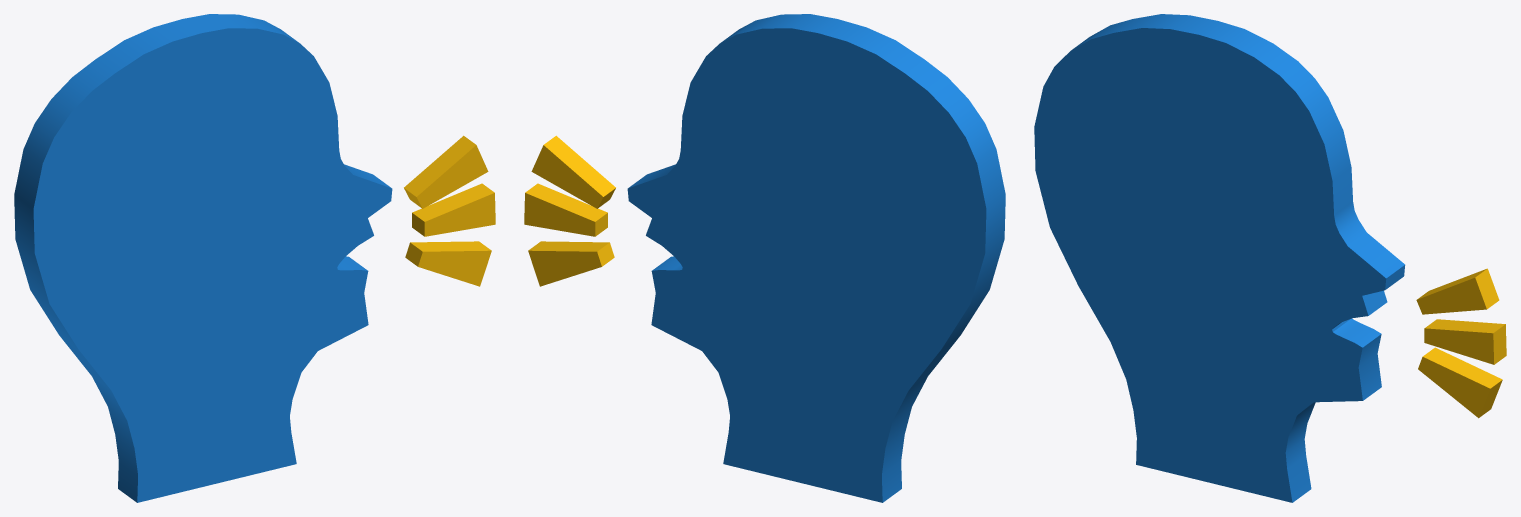
Rendered from speaking_head.glb.
3 renders of one model, left to right at view 1: azimuth 30°, elevation 25°; view 2: azimuth 150°, elevation 25°; view 3: azimuth 330°, elevation 25°, orthographic.
Visible parts, largest first — view 1: Speaking Head; view 2: Speaking Head; view 3: Speaking Head.
Part boxes in pixels (box(x1,y1,x2,y2)): Speaking Head: box(14, 14, 495, 502); Speaking Head: box(524, 14, 1005, 502); Speaking Head: box(1034, 14, 1506, 502).
Size of the model in its own units: 1.94 by 1.81 by 0.14.
1 material, 1 textured.
